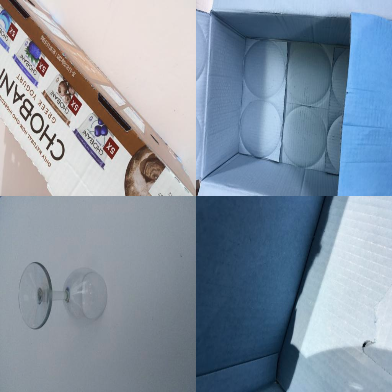cardboard: (195, 197, 391, 392), (1, 1, 195, 195), (196, 1, 391, 194)
glass: (17, 262, 107, 330)
